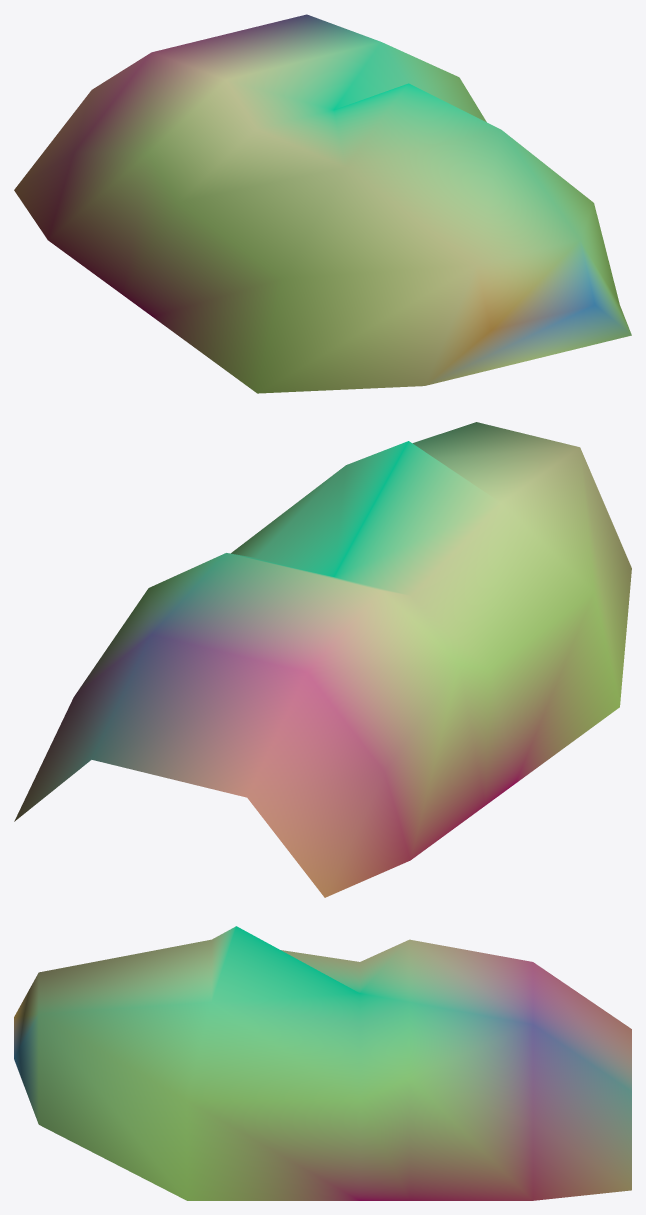
The picture shows the model from 3 angles, top to bottom: view 1: azimuth 30°, elevation 25°; view 2: azimuth 150°, elevation 25°; view 3: azimuth 270°, elevation 25°; orthographic projection. The views are drawn at different scales.
Visible parts, largest first — view 1: part; view 2: part; view 3: part.
Part boxes in pixels (x1,y1,x2,y2): part: (14, 14, 631, 393); part: (14, 422, 631, 897); part: (14, 926, 631, 1200).
Size of the model in its own units: 14 by 9 by 25.
